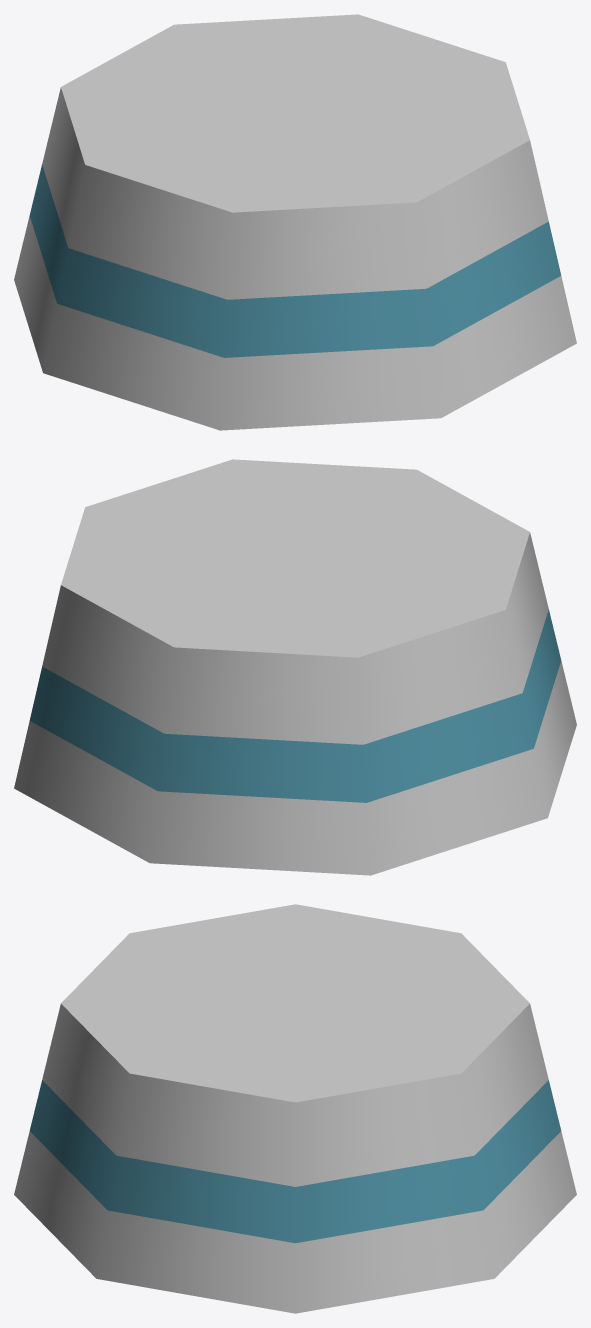
Rendered from hat_striped.glb.
3 views of the same model, one above another, from view 1: azimuth 30°, elevation 25°; view 2: azimuth 150°, elevation 25°; view 3: azimuth 270°, elevation 25° (orthographic). The views are drawn at different scales.
Visible parts, largest first — view 1: hat_striped; view 2: hat_striped; view 3: hat_striped.
Part boxes in pixels (x1,y1,x2,y2): hat_striped: (14,14,576,430); hat_striped: (14,459,576,875); hat_striped: (14,904,576,1313).
Size of the model in its own units: 0.162 by 0.0608 by 0.162.
